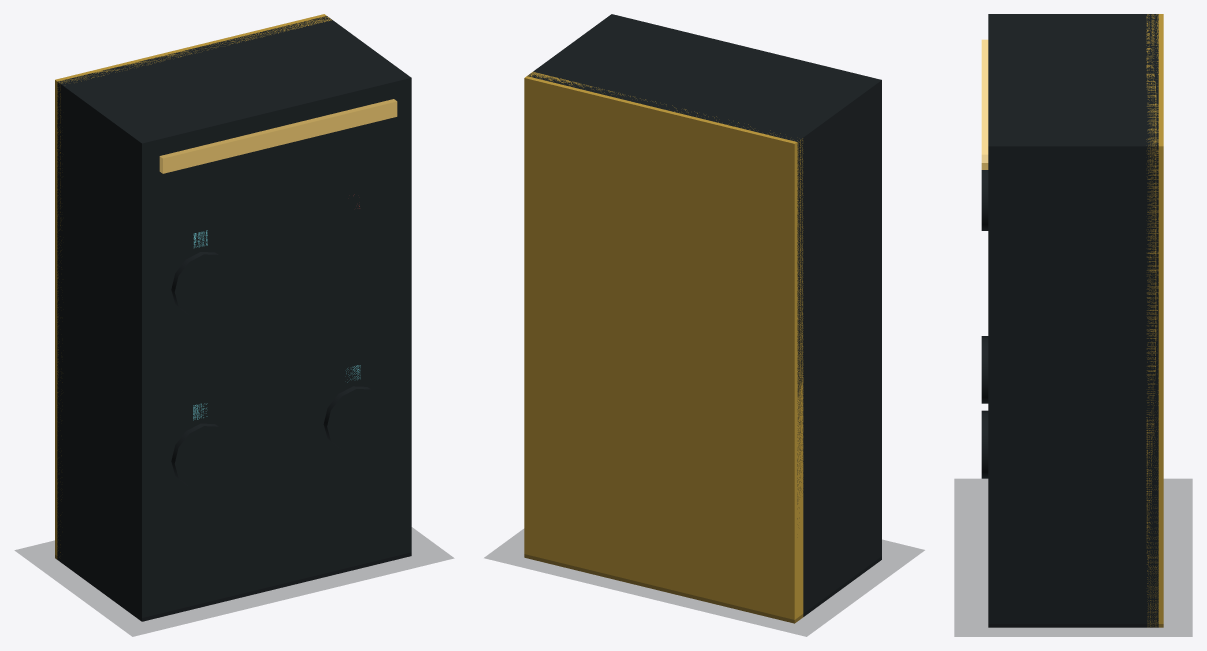
Rendered from hp_room_rm_maint_battery_rack.glb.
3 renders of one model, left to right at view 1: azimuth 30°, elevation 25°; view 2: azimuth 150°, elevation 25°; view 3: azimuth 270°, elevation 25°, orthographic.
Parts seen in each view (by area): view 1: rack_frame, contact_shadow, rack_header, rack_back, cell_-0.26_1.06, cell_-0.26_0.5, cell_0.26_0.5; view 2: rack_back, rack_frame, contact_shadow; view 3: rack_frame, contact_shadow, rack_back, rack_header, cell_0.26_0.5, cell_-0.26_0.5, cell_-0.26_1.06.
Part boxes in pixels (x1=…): rack_frame: x1=57, y1=16, x2=411, y2=621; contact_shadow: x1=15, y1=527, x2=453, y2=636; rack_header: x1=159, y1=99, x2=397, y2=173; rack_back: x1=55, y1=14, x2=331, y2=561; cell_-0.26_1.06: x1=171, y1=252, x2=233, y2=315; cell_-0.26_0.5: x1=171, y1=423, x2=233, y2=487; cell_0.26_0.5: x1=323, y1=386, x2=385, y2=450; rack_back: x1=524, y1=72, x2=803, y2=623; rack_frame: x1=527, y1=14, x2=881, y2=616; contact_shadow: x1=484, y1=529, x2=924, y2=636; rack_frame: x1=988, y1=14, x2=1158, y2=627; contact_shadow: x1=954, y1=479, x2=1192, y2=636; rack_back: x1=1146, y1=14, x2=1163, y2=627; rack_header: x1=981, y1=39, x2=988, y2=169; cell_0.26_0.5: x1=981, y1=410, x2=988, y2=478; cell_-0.26_0.5: x1=981, y1=336, x2=988, y2=403; cell_-0.26_1.06: x1=981, y1=163, x2=988, y2=230.
Bounding box in the file's own units: 1.1 × 1.56 × 0.7.
